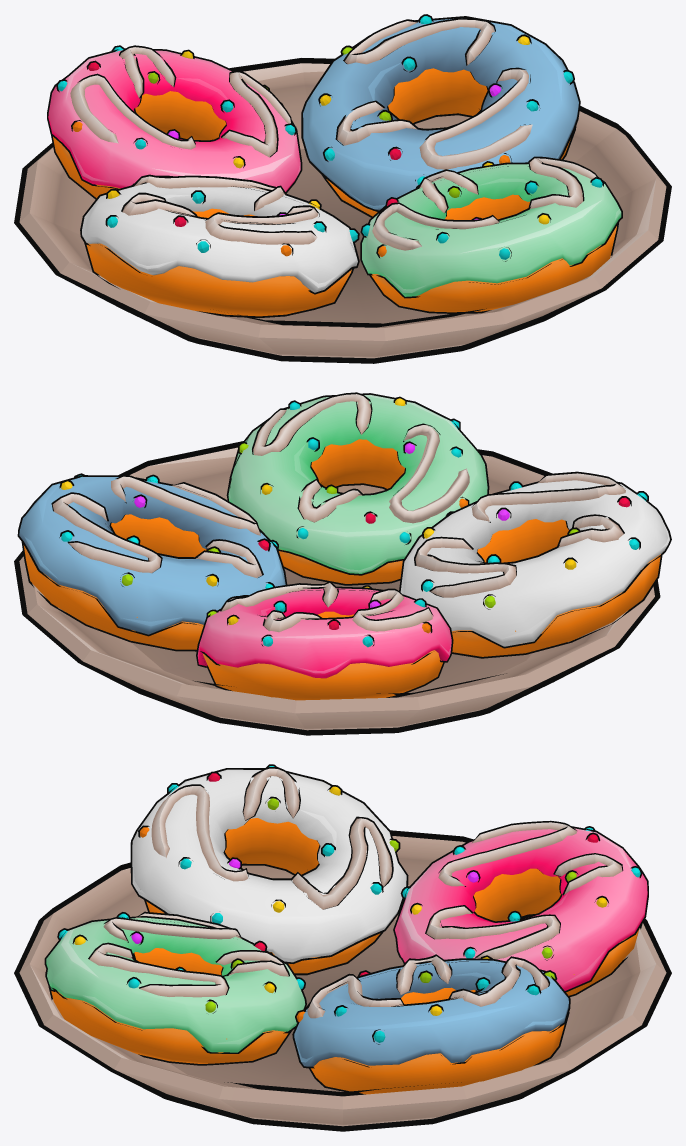
Rendered from Donuts.glb.
3 views of the same model, one above another, from view 1: azimuth 30°, elevation 25°; view 2: azimuth 150°, elevation 25°; view 3: azimuth 270°, elevation 25° (orthographic).
Parts seen in each view (by area): view 1: Sphere.013, Plane.010, Plane.009, Plane.008, Plane.007; view 2: Plane.009, Plane.008, Plane.010, Sphere.013, Plane.007; view 3: Plane.009, Sphere.013, Plane.007, Plane.008, Plane.010.
Boxes of the visible parts, x1,y1,x2,y2 form: Sphere.013: (14, 58, 671, 363); Plane.010: (301, 14, 580, 217); Plane.009: (80, 174, 359, 318); Plane.008: (360, 156, 622, 313); Plane.007: (47, 45, 302, 199); Plane.009: (399, 471, 671, 658); Plane.008: (226, 392, 489, 585); Plane.010: (17, 473, 287, 651); Sphere.013: (14, 441, 660, 735); Plane.007: (196, 581, 453, 700); Plane.009: (130, 764, 408, 975); Sphere.013: (14, 830, 671, 1131); Plane.007: (393, 820, 648, 996); Plane.008: (44, 911, 306, 1065); Plane.010: (292, 954, 570, 1094).
Bounding box in the file's own units: 3.58 × 0.9031 × 3.58.
2 materials, 1 textured.
